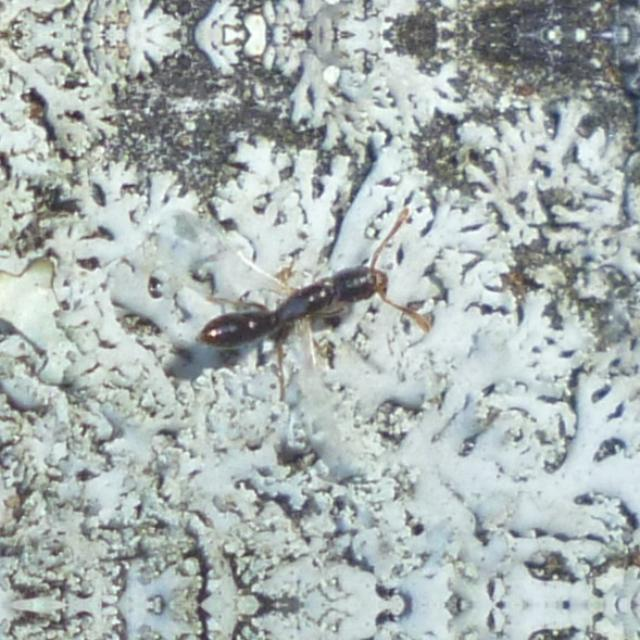Ponera: (170, 240, 438, 362)
